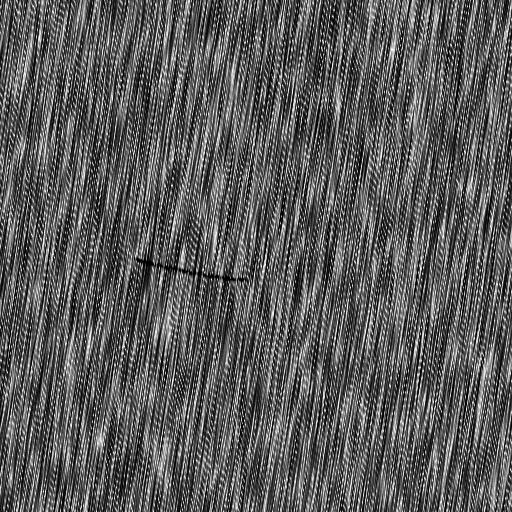DefectTypeC: (134, 255, 252, 286)
